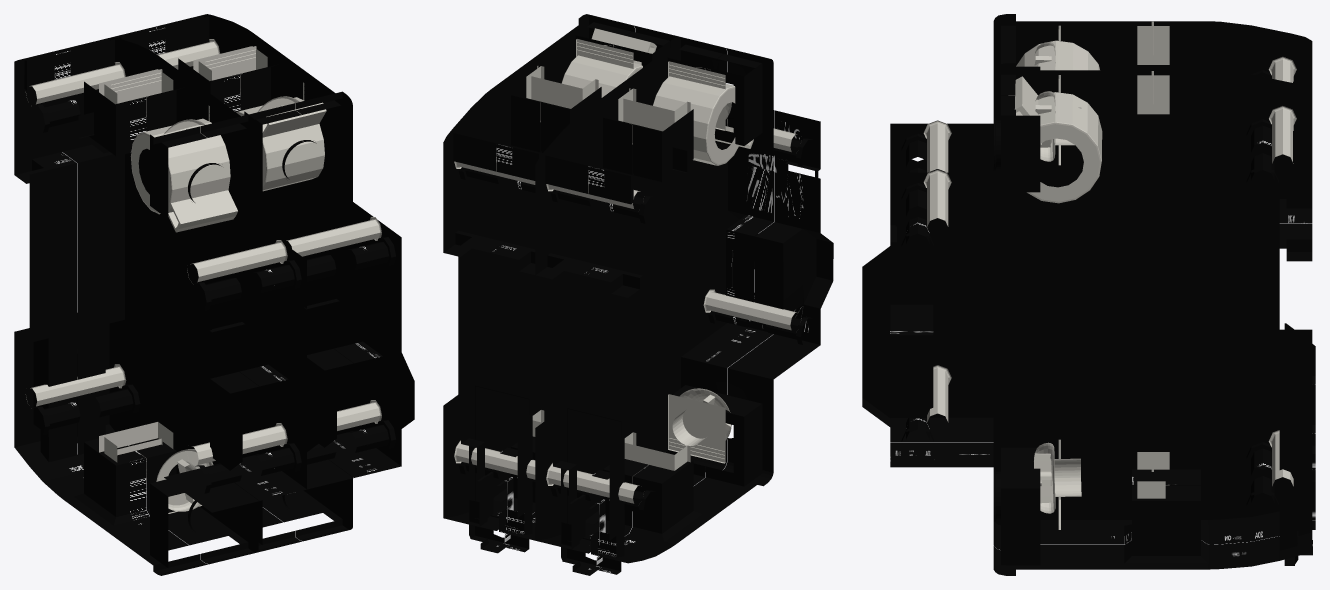
The model's file is circuit_breaker.glb.
3 views of the same model, side by side, from view 1: azimuth 30°, elevation 25°; view 2: azimuth 150°, elevation 25°; view 3: azimuth 270°, elevation 25° (orthographic). The views are drawn at different scales.
Parts seen in each view (by area): view 1: CB body 02, CB body 01, CB body 003, CB parts, CB body 004, CB switch, CB parts001, CB switch001; view 2: CB body 02, CB body 01, CB body 003, CB parts, CB body 004, CB parts001, CB switch, CB switch001; view 3: CB body 004, CB body 003, CB body 01, CB parts001, CB switch001, CB parts, CB switch, CB body 02.
Boxes of the visible parts, x1,y1,x2,y2 form: CB body 02: [62, 37, 319, 564]; CB body 01: [14, 49, 258, 575]; CB body 003: [156, 14, 414, 541]; CB parts: [25, 62, 287, 513]; CB body 004: [109, 26, 353, 552]; CB switch: [130, 118, 237, 232]; CB parts001: [158, 39, 381, 430]; CB switch001: [236, 97, 326, 191]; CB body 02: [535, 36, 774, 549]; CB body 01: [553, 48, 833, 575]; CB body 003: [443, 14, 634, 526]; CB parts: [546, 61, 801, 503]; CB body 004: [461, 25, 739, 553]; CB parts001: [454, 39, 635, 479]; CB switch: [653, 76, 753, 165]; CB switch001: [561, 28, 656, 97]; CB body 004: [862, 63, 1315, 565]; CB body 003: [862, 95, 1312, 575]; CB body 01: [862, 14, 1315, 469]; CB parts001: [923, 71, 1296, 529]; CB switch001: [1008, 76, 1102, 203]; CB parts: [923, 21, 1296, 172]; CB switch: [1016, 40, 1099, 70]; CB body 02: [862, 46, 1312, 525].
Bounding box in the file's own units: 360 × 794 × 698.
10 materials, 6 textured.
